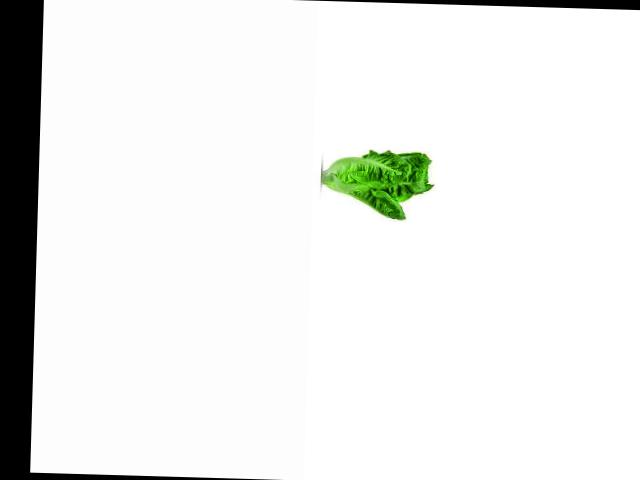lettuce: (324, 144, 435, 221)
